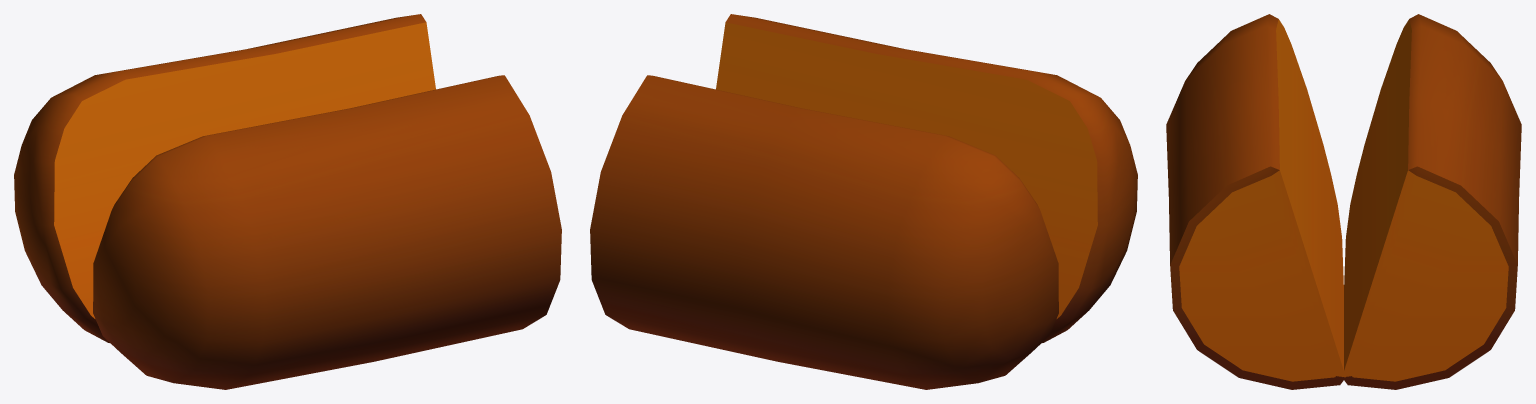
File: HotDog_bun_half.004.fbx
3 views of the same model, side by side, from view 1: azimuth 30°, elevation 25°; view 2: azimuth 150°, elevation 25°; view 3: azimuth 270°, elevation 25° (orthographic). The views are drawn at different scales.
Visible parts, largest first — view 1: HotDog_bun_half.004; view 2: HotDog_bun_half.004; view 3: HotDog_bun_half.004.
Part boxes in pixels (bbox=[...]): HotDog_bun_half.004: bbox=[14, 14, 561, 389]; HotDog_bun_half.004: bbox=[590, 14, 1137, 389]; HotDog_bun_half.004: bbox=[1166, 14, 1521, 389].
Size of the model in its own units: 76.52 by 67.97 by 49.74.
